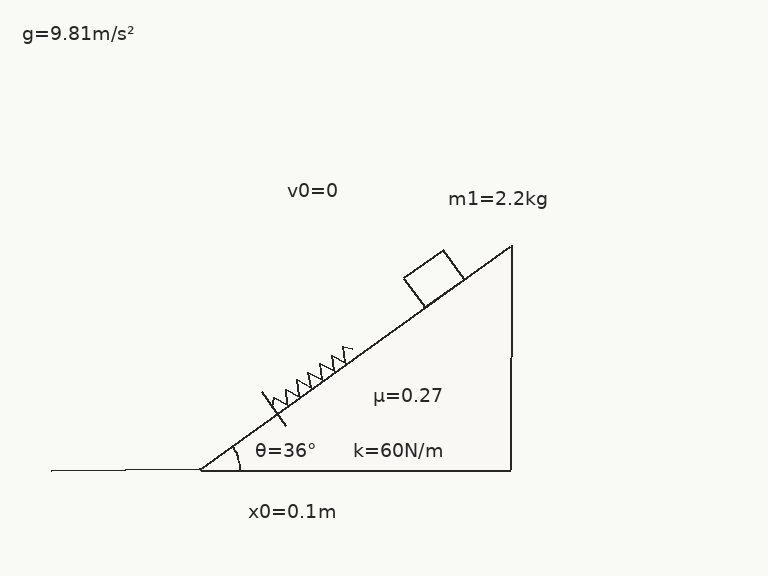block: (401, 248, 466, 309)
ramp: (198, 243, 512, 472)
spring: (270, 344, 355, 408)
